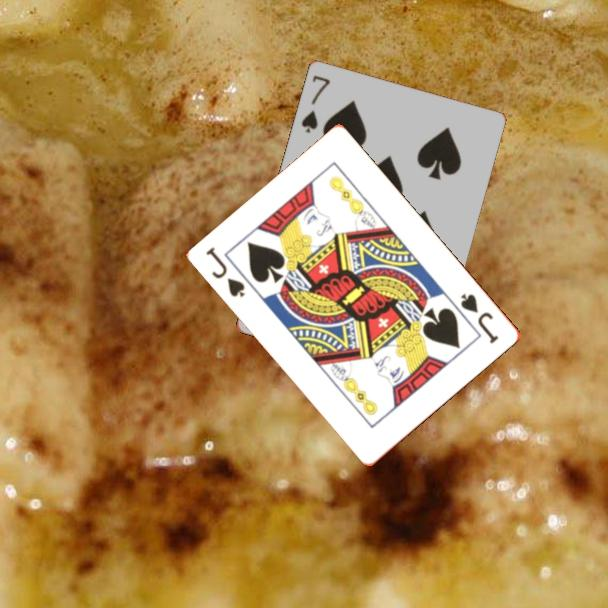s07: (298, 71, 333, 135)
s11: (457, 289, 502, 347), (203, 243, 248, 300)
